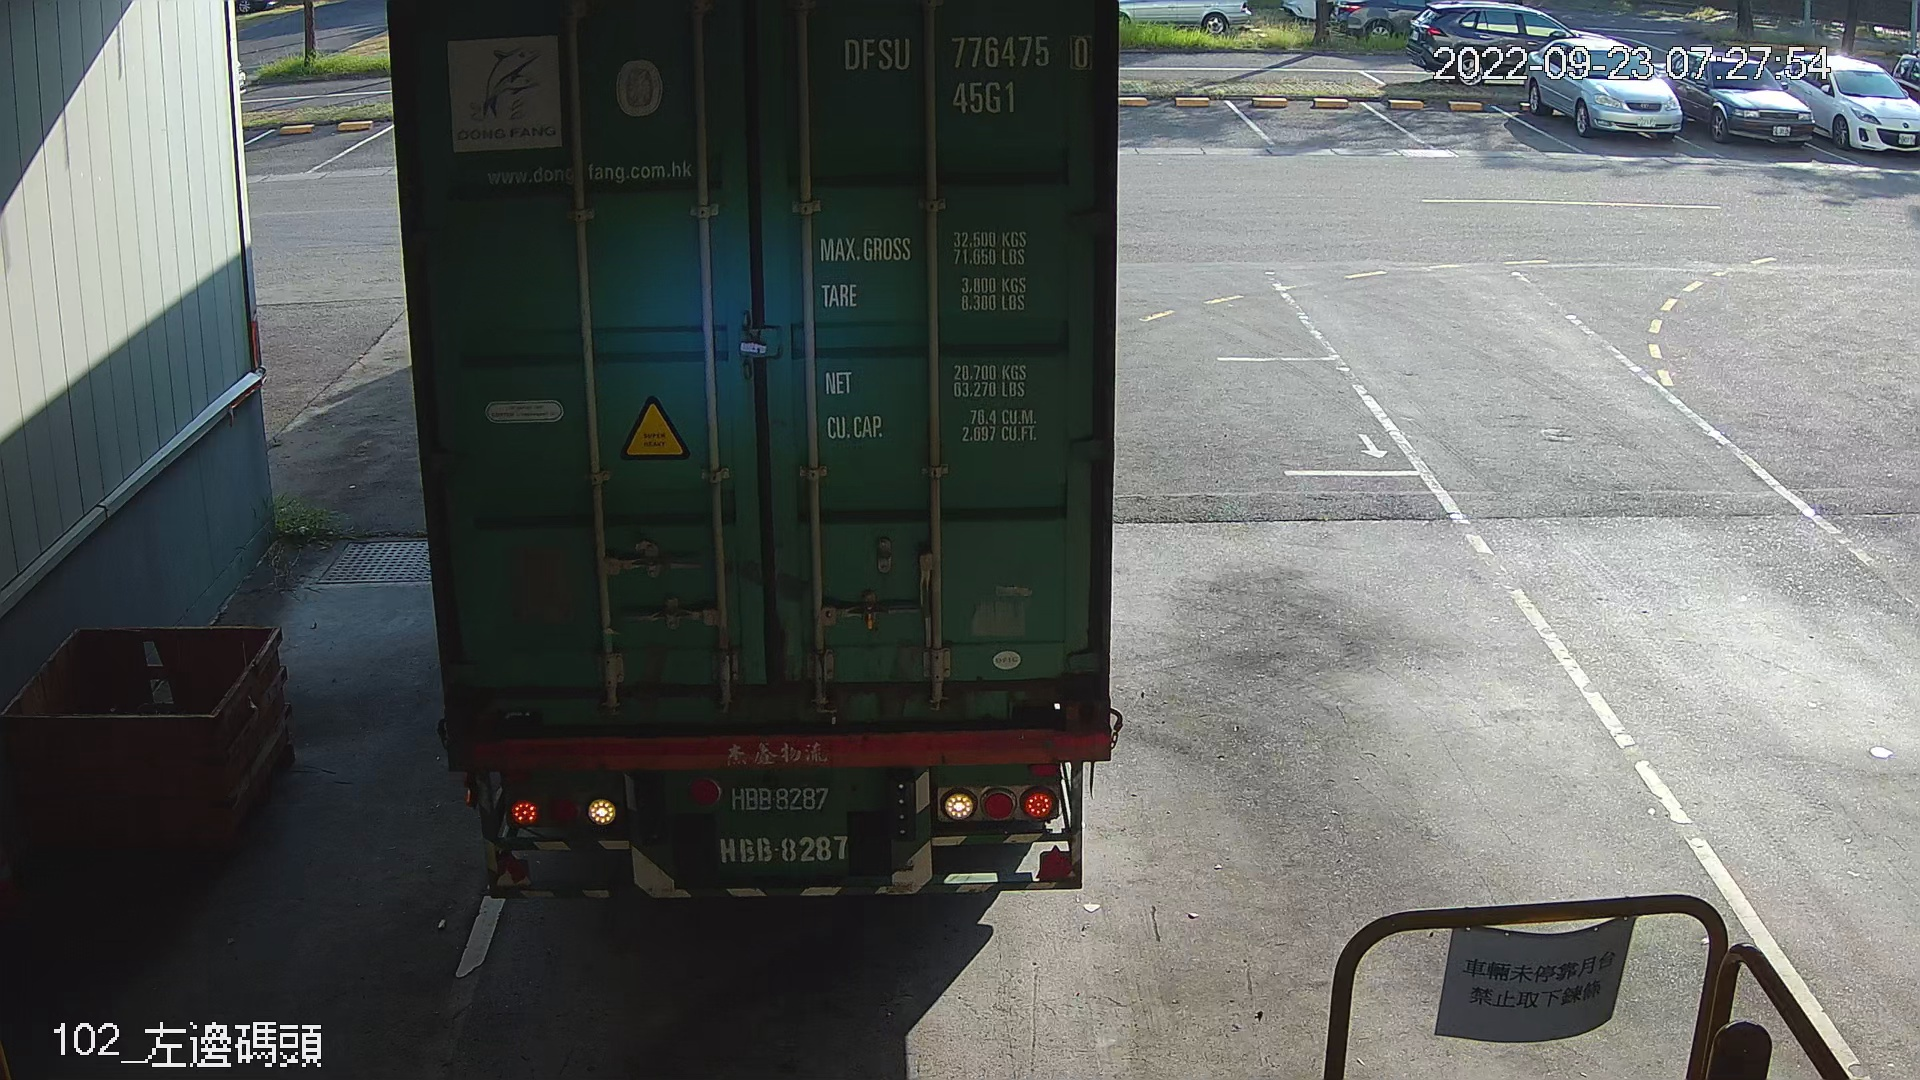container: (1025, 158, 1153, 214)
